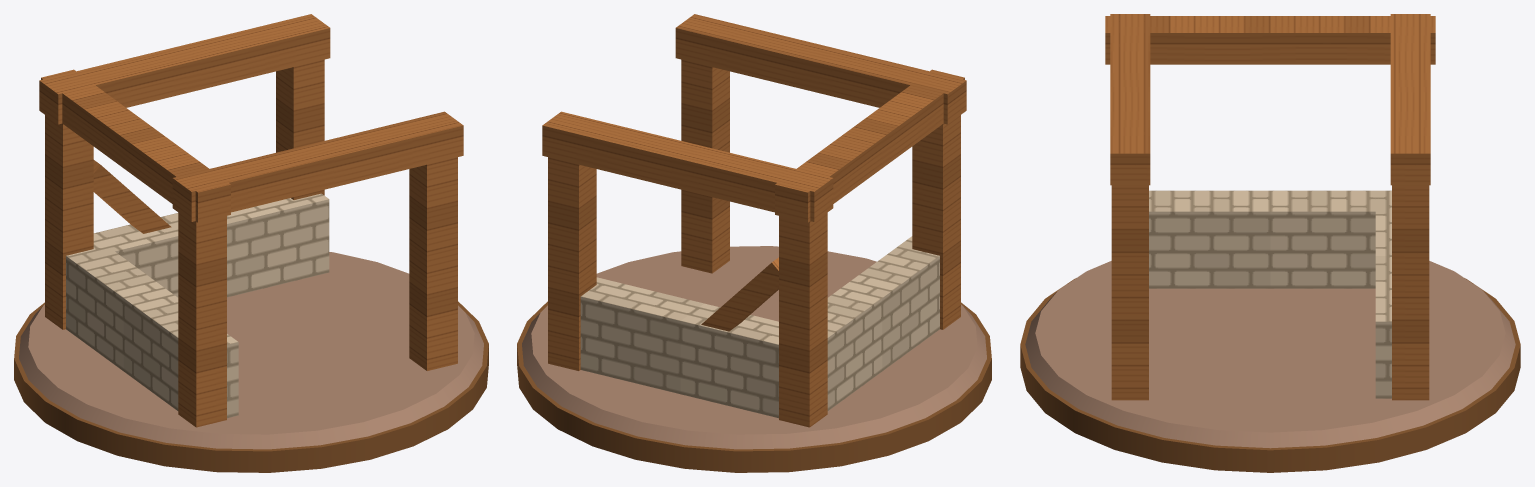
File: tier-04-corner-frame.glb
3 renders of one model, left to right at view 1: azimuth 30°, elevation 25°; view 2: azimuth 150°, elevation 25°; view 3: azimuth 270°, elevation 25°, orthographic. The views are drawn at different scales.
Parts seen in each view (by area): view 1: wood, matte, brick; view 2: wood, matte, brick; view 3: matte, wood, brick.
Part boxes in pixels (x1=…): wood: x1=39, y1=14, x2=463, y2=427; matte: x1=14, y1=252, x2=488, y2=472; brick: x1=66, y1=193, x2=329, y2=418; wood: x1=542, y1=14, x2=966, y2=427; matte: x1=517, y1=246, x2=991, y2=472; brick: x1=580, y1=236, x2=939, y2=418; matte: x1=1020, y1=261, x2=1520, y2=472; wood: x1=1105, y1=14, x2=1435, y2=400; brick: x1=1149, y1=190, x2=1391, y2=398.
Bounding box in the file's own units: 1 × 0.625 × 1.
Materials: 3 (2 with a texture image).
